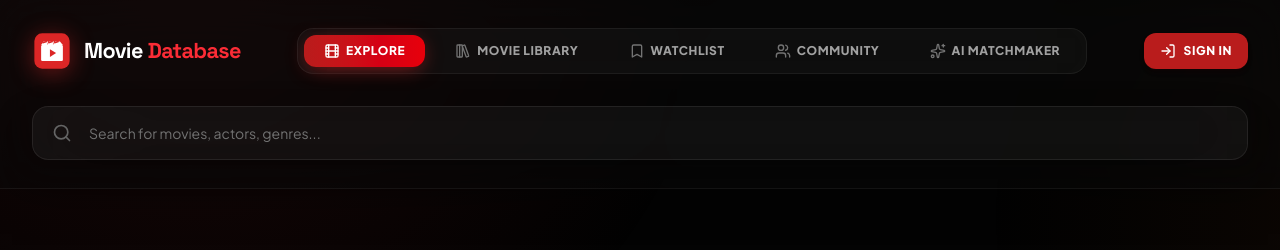
Navbar search › 'Clear' removes recent search history
Click the dropdown named "search movies, actors, directors" at x=640, y=133, box [32,106,1248,160]
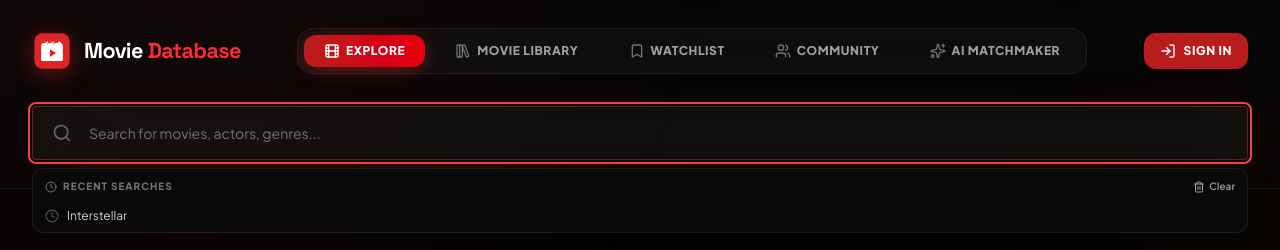
expect the text "Interstellar" is shown: met, box [67,208,127,224]
Click the button named "clear recent searches" at x=1214, y=186, box [1193,179,1235,194]
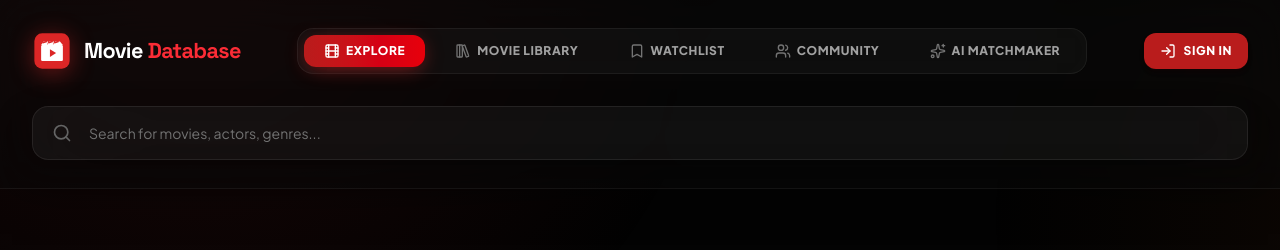
expect the option "Interstellar" is gone: met
